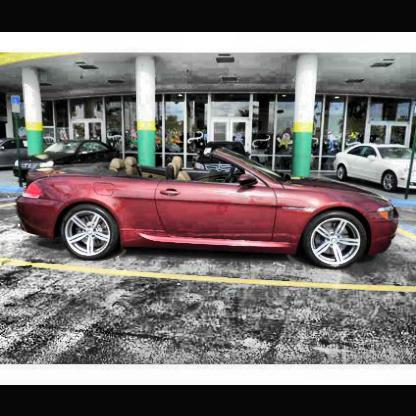BMW M6 Convertible 2010: (16, 149, 402, 271)
